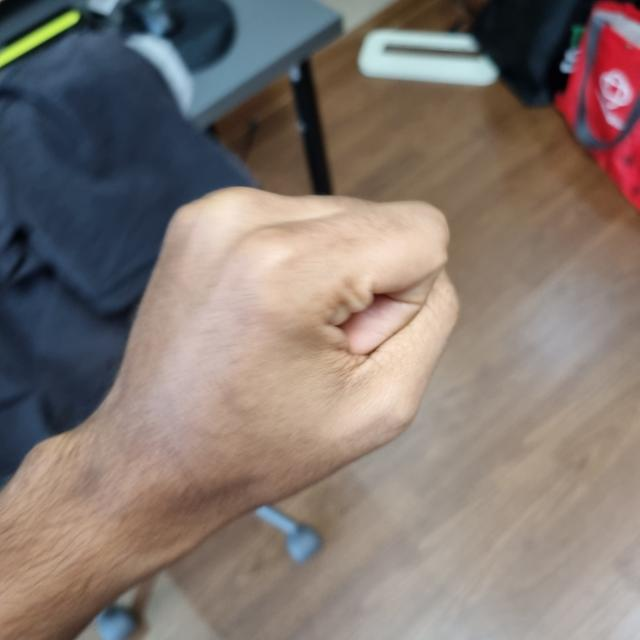Rock: (91, 189, 451, 520)
